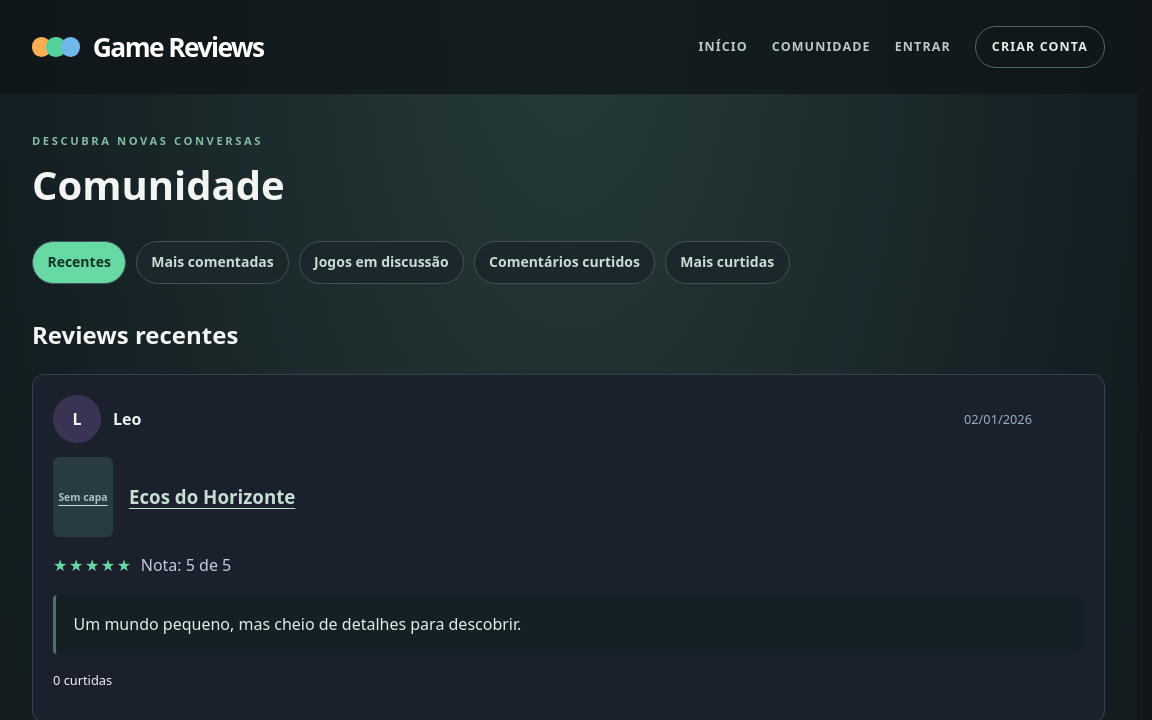
Test case: erro recuperação vazio e alteração de período
Click the button "Jogos em discussão" at (381, 262), box [299,240,464,284]
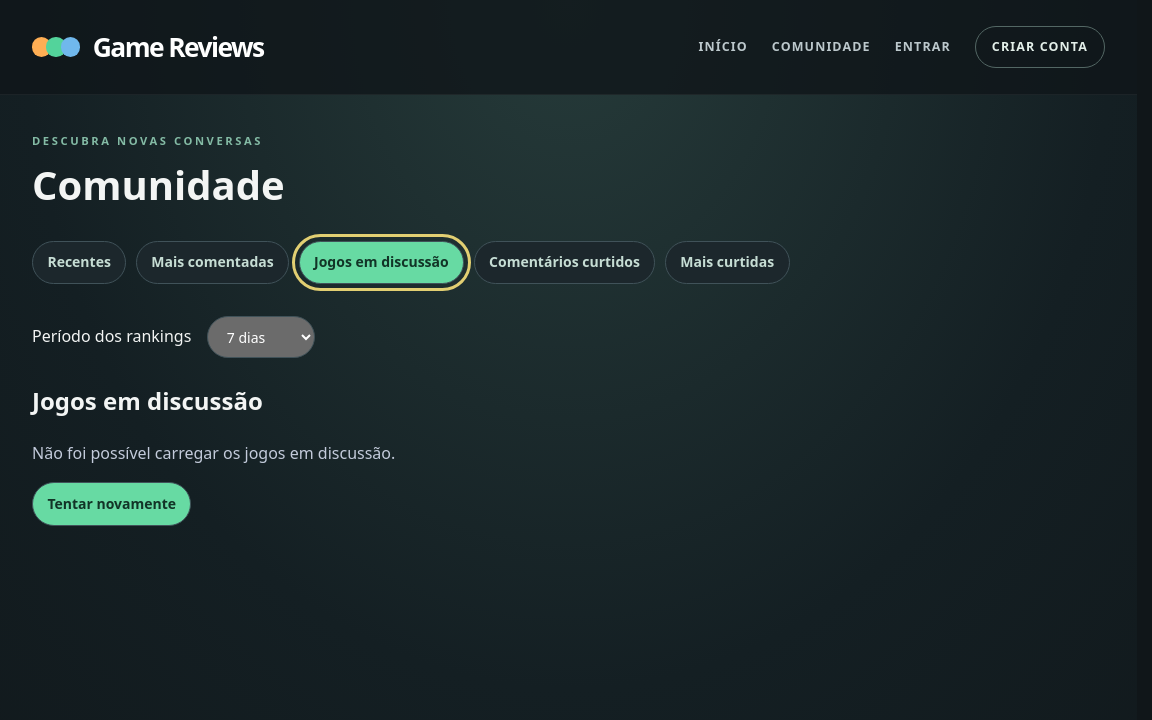
Expected: the text "Não foi possível carregar os jogos em discussão." is shown, [32,442,395,464]
Click the button "Tentar novamente" at (112, 504), box [32,482,192,526]
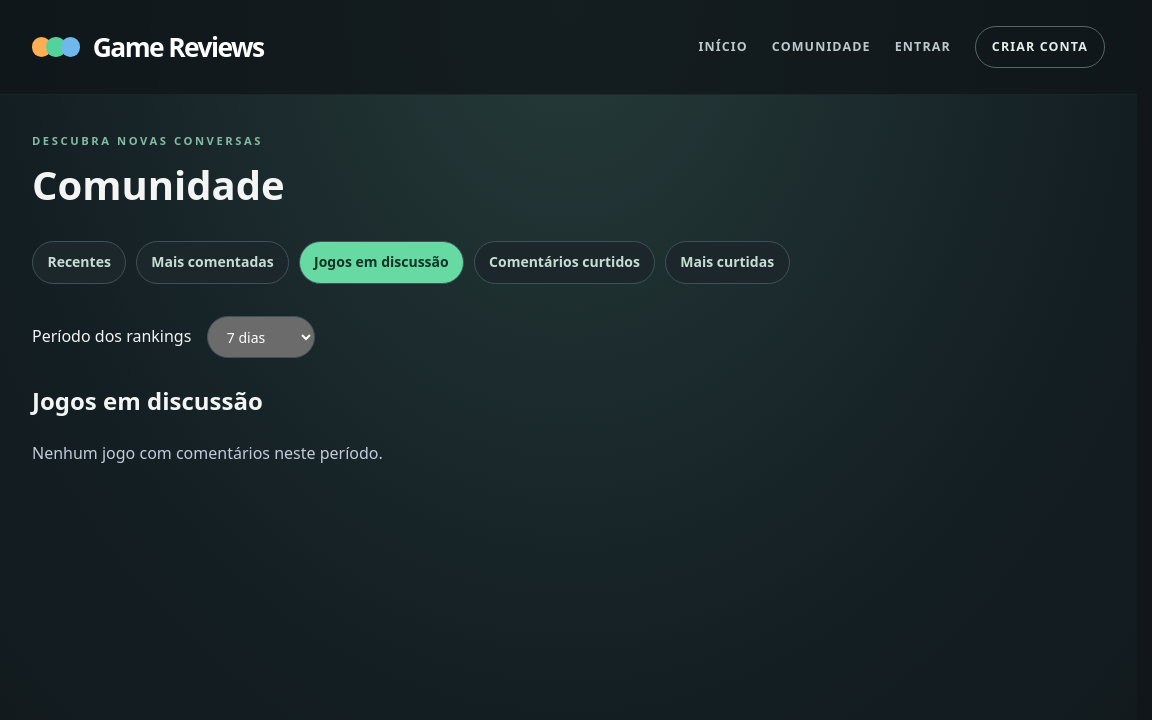
Expected: the text "Nenhum jogo com comentários neste período." is shown, [32,442,383,464]
Select "24 horas" in the dropdown at (261, 337), box [207,316,315,358]
(page scrolled)
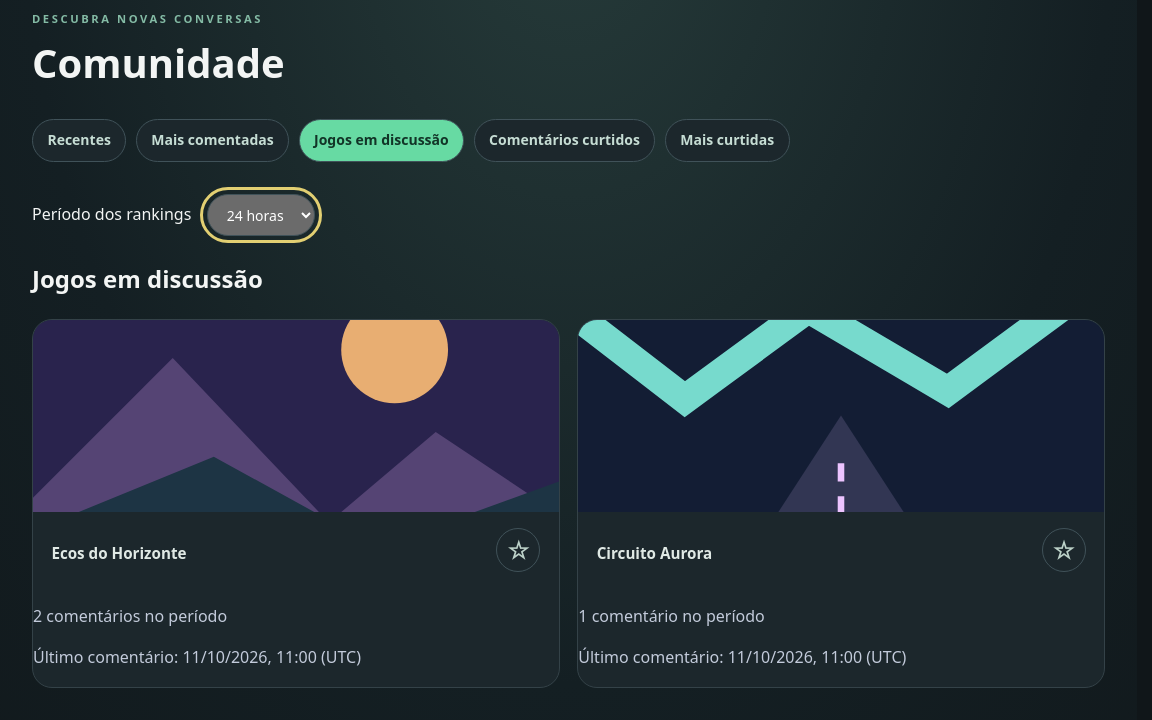
Expected: the text "2 comentários no período" is shown, [33,605,227,627]
